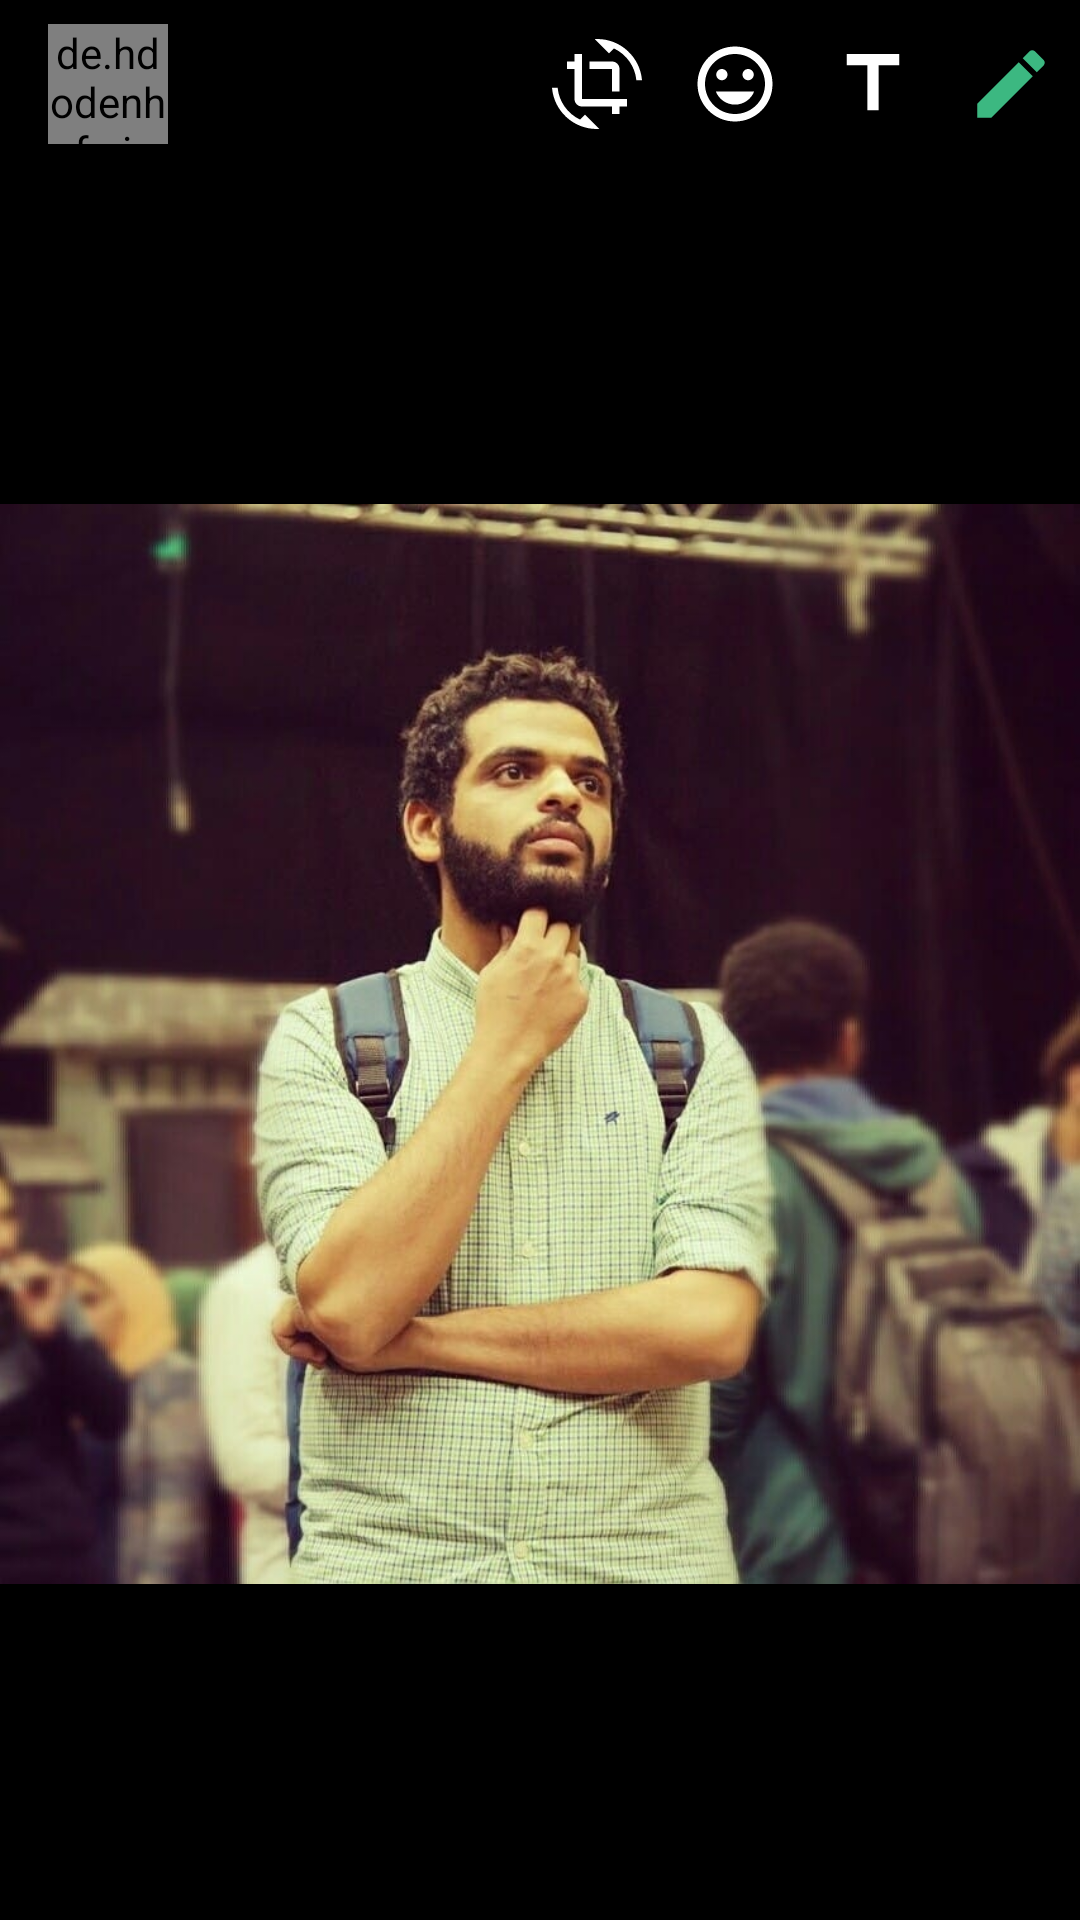

Where to tap for icons on this 1080 x 1920 app screen, as (x,y):
crop rotate: (597,84)
edit: (1011,84)
tag face: (735,84)
title: (873,82)
